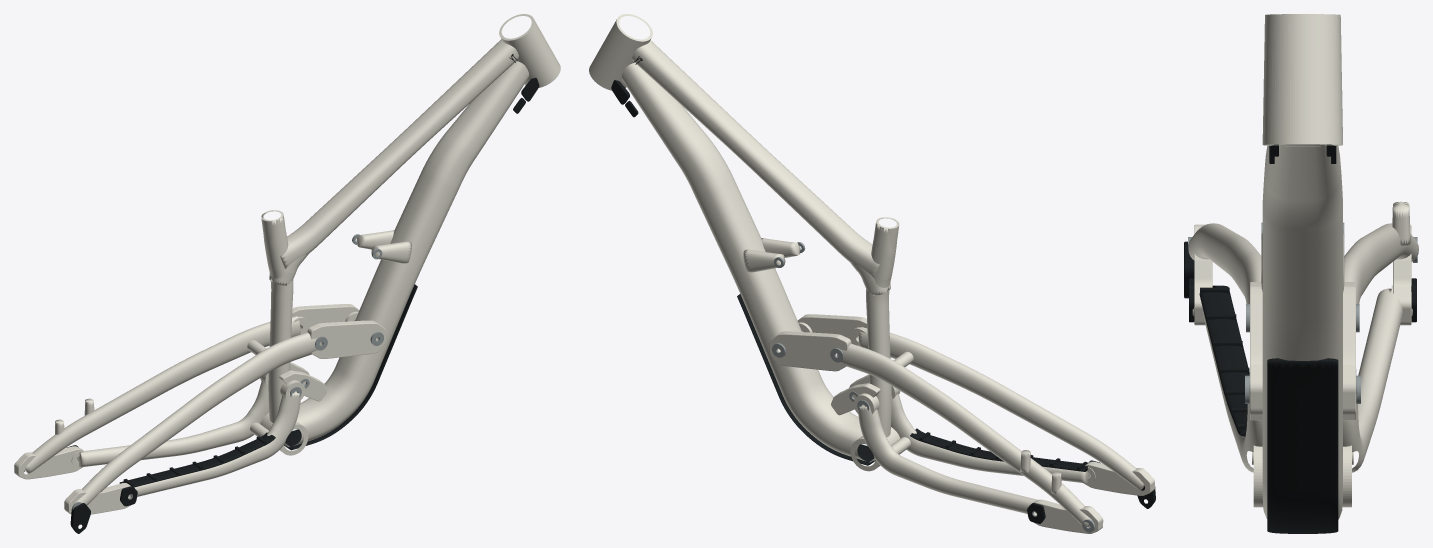
Rendered from yt-tues-mk4-carbon--m.glb.
3 views of the same model, side by side, from view 1: azimuth 30°, elevation 25°; view 2: azimuth 150°, elevation 25°; view 3: azimuth 270°, elevation 25° (orthographic). The views are drawn at different scales.
Visible parts, largest first — view 1: yt-tues-mk4-carbon__paint_0, yt-tues-mk4-carbon__chain_guard, yt-tues-mk4-carbon__bolt_899_675_-1; view 2: yt-tues-mk4-carbon__paint_0, yt-tues-mk4-carbon__chain_guard, yt-tues-mk4-carbon__bolt_899_675_-1; view 3: yt-tues-mk4-carbon__paint_0, yt-tues-mk4-carbon__chain_guard, yt-tues-mk4-carbon__bolt_899_675_-1.
Boxes of the visible parts, <box> form: yt-tues-mk4-carbon__paint_0: <box>14,14,560,514</box>; yt-tues-mk4-carbon__chain_guard: <box>66,77,539,533</box>; yt-tues-mk4-carbon__bolt_899_675_-1: <box>24,234,383,509</box>; yt-tues-mk4-carbon__paint_0: <box>589,14,1154,533</box>; yt-tues-mk4-carbon__chain_guard: <box>611,80,1155,523</box>; yt-tues-mk4-carbon__bolt_899_675_-1: <box>772,242,1095,532</box>; yt-tues-mk4-carbon__paint_0: <box>1188,14,1418,519</box>; yt-tues-mk4-carbon__chain_guard: <box>1184,144,1416,533</box>; yt-tues-mk4-carbon__bolt_899_675_-1: <box>1188,222,1417,403</box>.
Size of the model in its own units: 0.9991 by 0.6997 by 0.1982.
5 materials, 2 textured.
